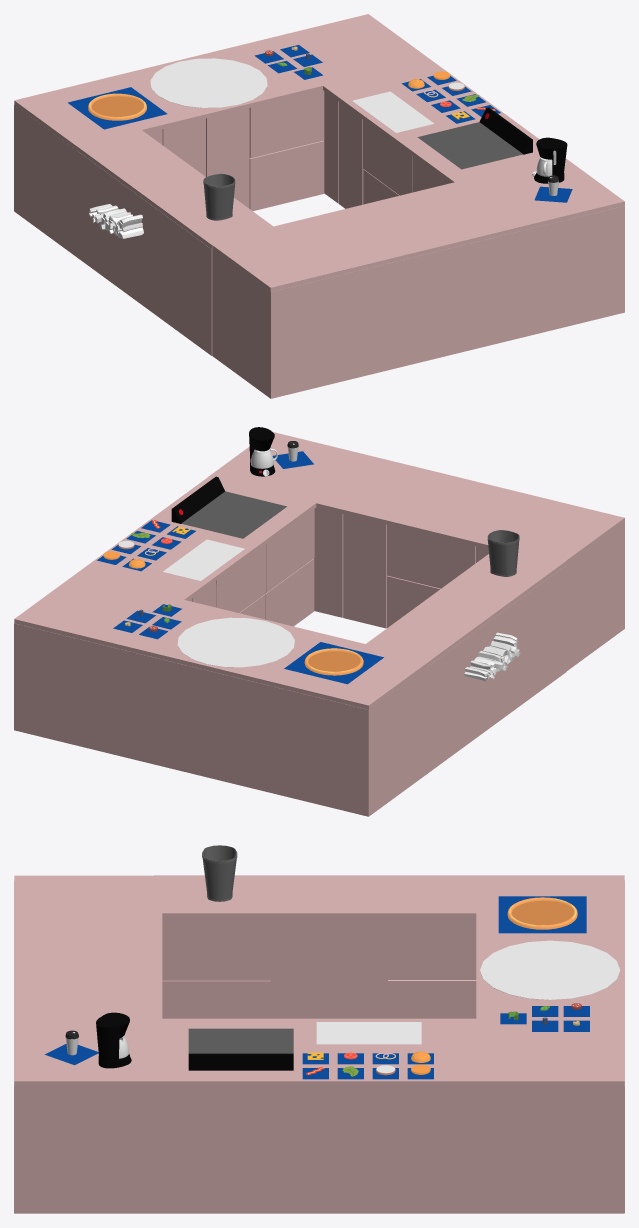
File: kitchen2.gltf
3 views of the same model, one above another, from view 1: azimuth 30°, elevation 25°; view 2: azimuth 150°, elevation 25°; view 3: azimuth 270°, elevation 25° (orthographic). The views are drawn at different scales.
Visible parts, largest first — view 1: PBR_Table_Front.189, PBR_Table_Right_1.191, PBR_Table_Back.188, PBR_Table_Left_1.190, Pizza_Placement.186, Grill_1.32, Burger_Placement.16, Trashcan_Small2.193, mf_wood.180, Dough_Ketchup_Spawning_Plate.124, Cube__1_.29, Cooking_Status_1.127 (+1 smaller); view 2: PBR_Table_Back.188, PBR_Table_Front.189, PBR_Table_Right_1.191, PBR_Table_Left_1.190, Pizza_Placement.186, Grill_1.32, Burger_Placement.16, mf_wood.180, Trashcan_Small2.193, Dough_Ketchup_Spawning_Plate.124, Cube__1_.29, Cooking_Status_1.127; view 3: PBR_Table_Left_1.190, PBR_Table_Front.189, PBR_Table_Right_1.191, PBR_Table_Back.188, Pizza_Placement.186, Grill_1.32, Burger_Placement.16, Cube_8.28, Trashcan_Small2.193, Dough_Ketchup_Spawning_Plate.124, Cooking_Status_1.127, Component_4_1.77 (+1 smaller).
Boxes of the visible parts, x1,y1,x2,y2 form: PBR_Table_Front.189: (212,158,624,398); PBR_Table_Right_1.191: (14,105,276,355); PBR_Table_Back.188: (14,14,367,210); PBR_Table_Left_1.190: (323,14,540,208); Pizza_Placement.186: (150,58,267,107); Grill_1.32: (417,122,522,169); Burger_Placement.16: (352,91,434,132); Trashcan_Small2.193: (203,173,235,220); mf_wood.180: (89,204,143,238); Dough_Ketchup_Spawning_Plate.124: (68,87,167,129); Cube__1_.29: (479,108,532,154); Cooking_Status_1.127: (91,96,143,116); PBR_Table_Back.188: (14,600,430,816); PBR_Table_Front.189: (208,432,624,670); PBR_Table_Right_1.191: (357,549,566,816); PBR_Table_Left_1.190: (14,474,316,717); Pizza_Placement.186: (177,617,294,667); Grill_1.32: (181,491,286,538); Burger_Placement.16: (163,539,244,580); mf_wood.180: (464,632,520,681); Trashcan_Small2.193: (487,530,519,576); Dough_Ketchup_Spawning_Plate.124: (284,642,383,684); Cube__1_.29: (172,477,224,523); Cooking_Status_1.127: (308,651,359,671); PBR_Table_Left_1.190: (154,1018,624,1213); PBR_Table_Front.189: (14,875,162,1213); PBR_Table_Right_1.191: (154,875,514,1018); PBR_Table_Back.188: (476,875,624,1213); Pizza_Placement.186: (480,940,620,999); Grill_1.32: (188,1028,293,1053); Burger_Placement.16: (316,1022,421,1044); Cube_8.28: (188,1053,293,1070); Trashcan_Small2.193: (202,845,237,901); Dough_Ketchup_Spawning_Plate.124: (498,896,586,933); Cooking_Status_1.127: (512,900,573,925); Component_4_1.77: (96,1017,131,1068).
Bounding box in the file's own units: 299 × 110 × 348.
67 materials, 21 textured.
